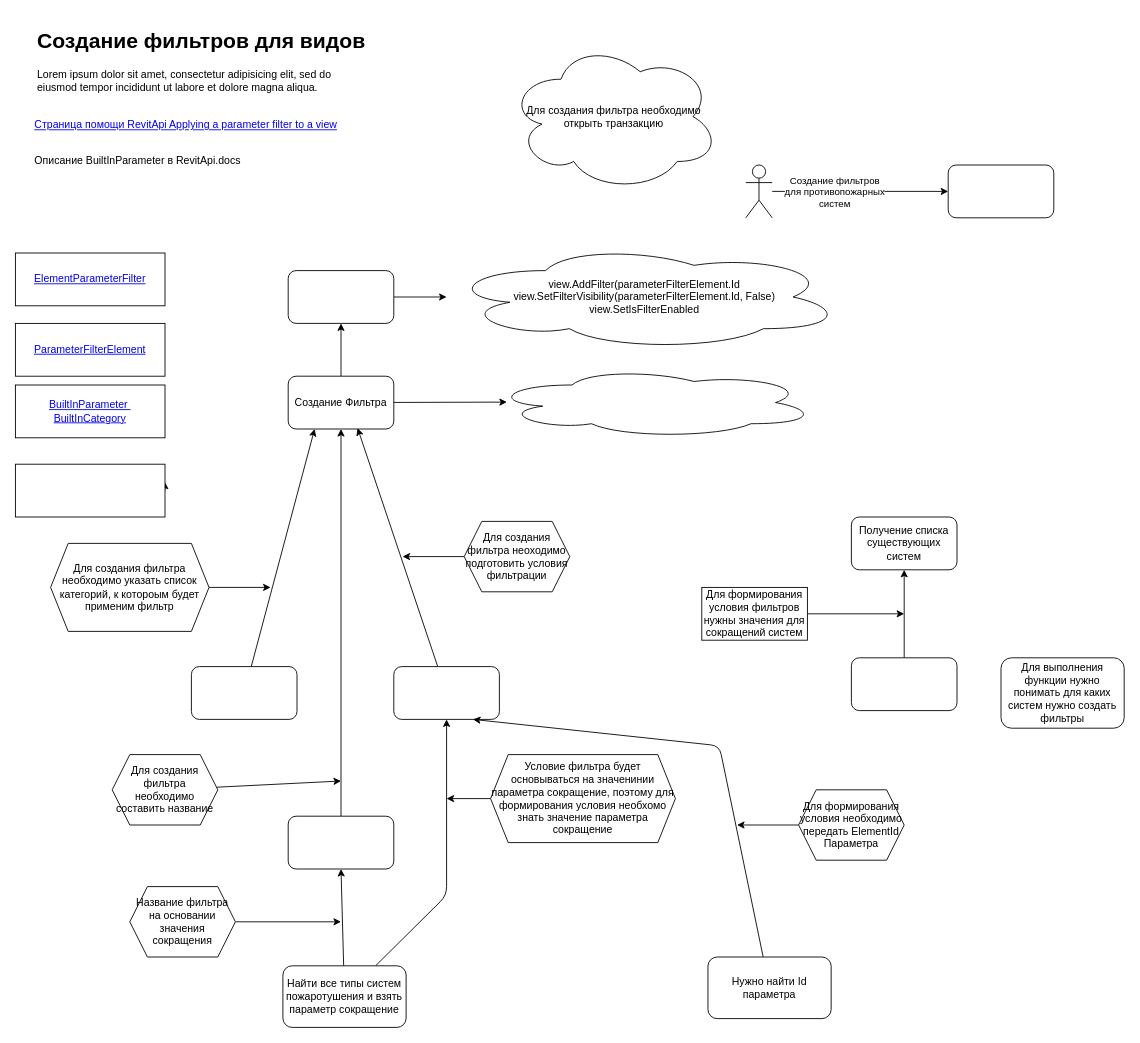
This 1140x1043 diagram has some shape labels left out. The shapes that lost their labels are listed below. From the top down, each one's centre as x and y in pixels, then its label:
At (758,191): "Actor".
At (340,296): "Применение фильтра к виду".
At (653,402): "ParameterFilterElement.Create".
At (90,490): "LogicalOrFilter LogicalAndFilter".
At (244,692): "Категории объектов".
At (446,692): "Условия фильтра ParameterFilterRule".
At (904,684): "Для формирования условия фильтра нужны".
At (340,842): "Сформировать названия фильтров".
